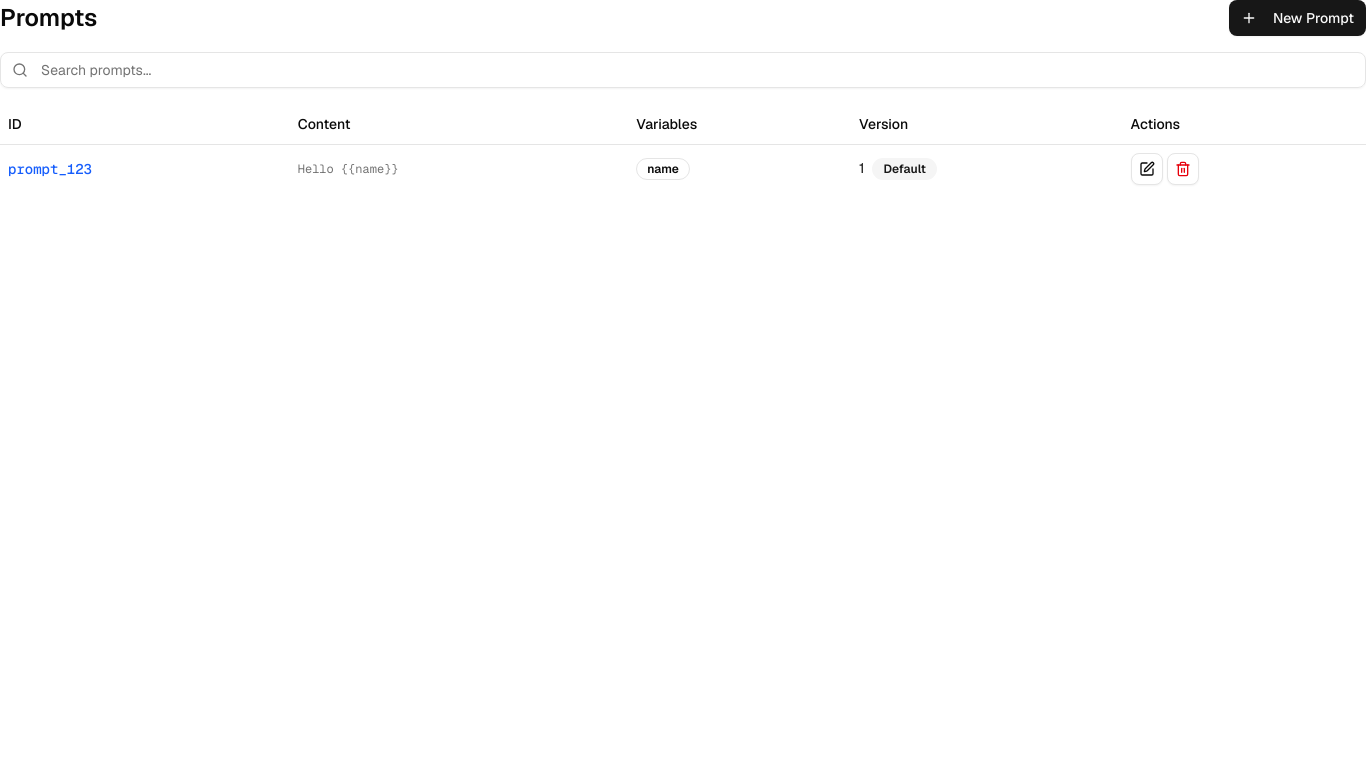
Scenario: PromptManagement › Modal Operations › closes modal when clicking cancel
Expected: the text "prompt_123" is shown, [8,158,92,178]
Note: Open modal
Click the button "New Prompt": (1297, 18) [1229,0,1365,36]
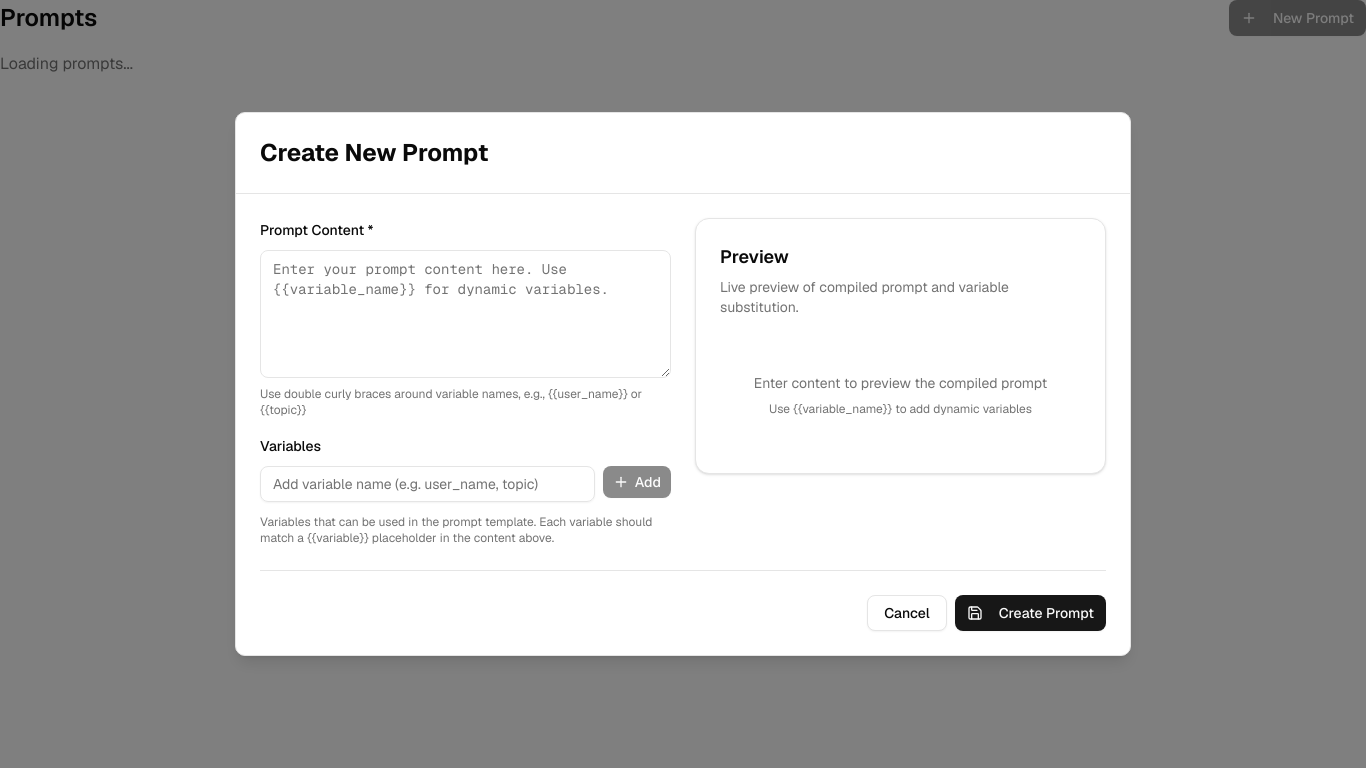
Expected: the heading "Create New Prompt" is shown, [260,137,488,168]
Note: Close modal
Click the button "Cancel": (907, 613) [867,595,947,631]
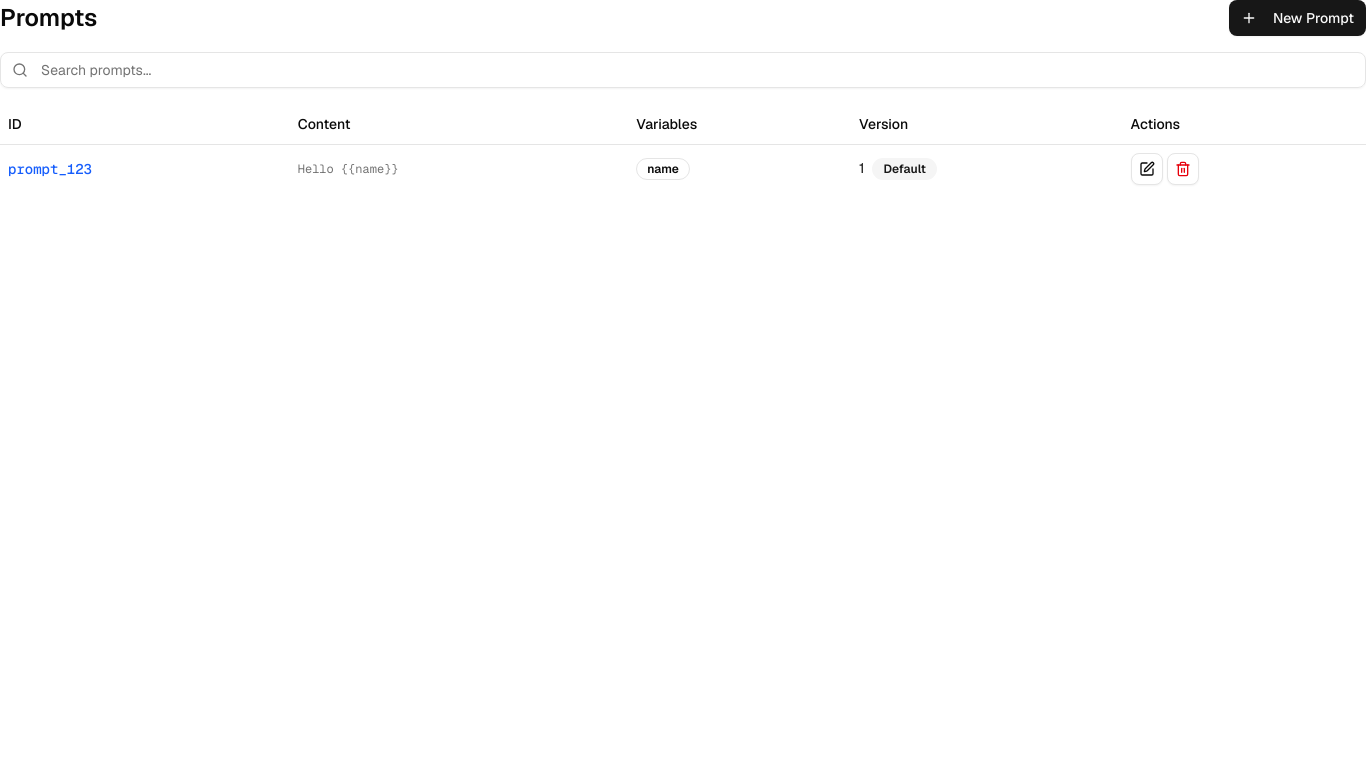
Expected: the heading "Create New Prompt" is gone
